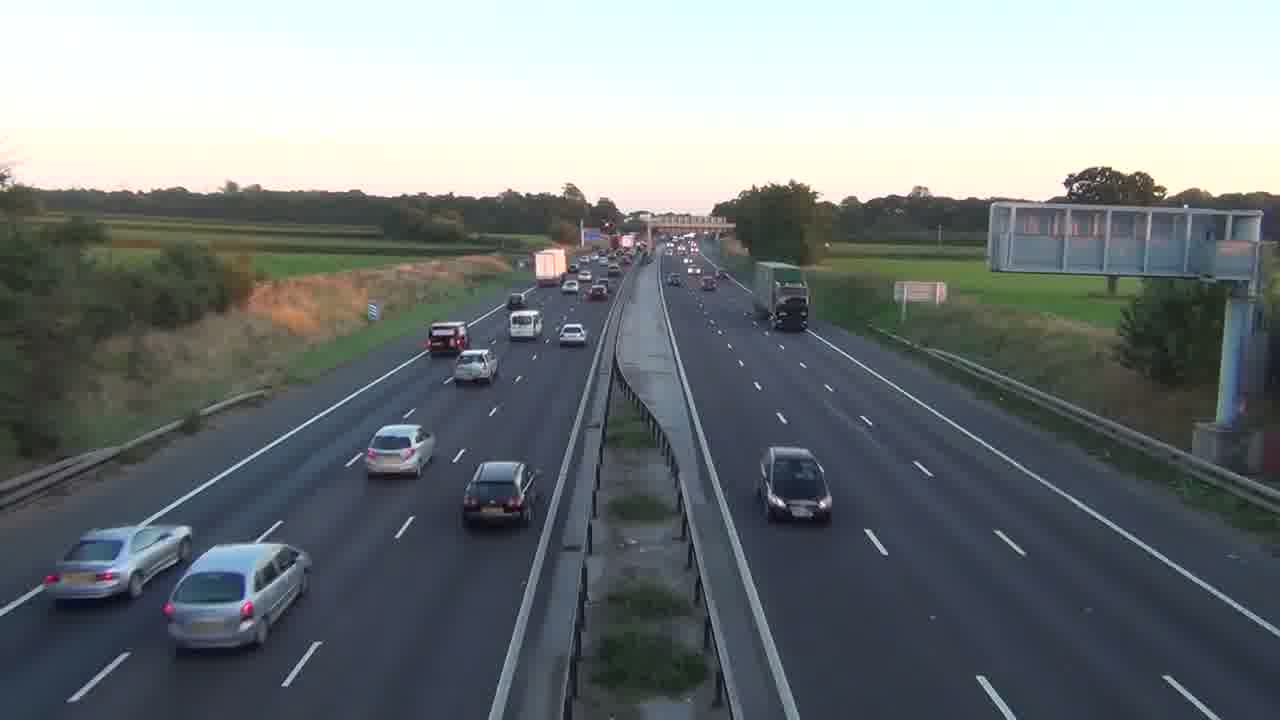car: (161, 540, 313, 652), (42, 523, 194, 604), (758, 445, 833, 523), (461, 460, 540, 529), (452, 348, 500, 384), (558, 321, 588, 348)
truck: (427, 321, 469, 358)
